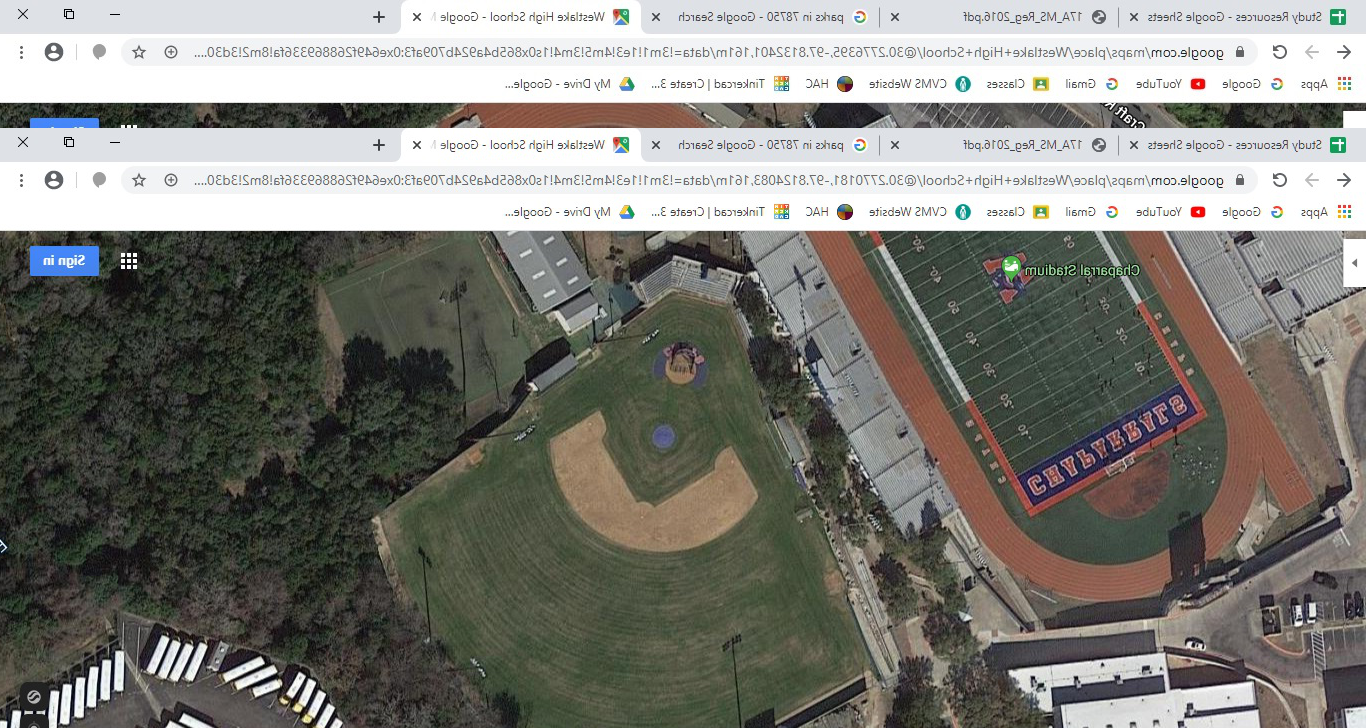baseball: (326, 276, 827, 728)
football: (862, 228, 1286, 558)
